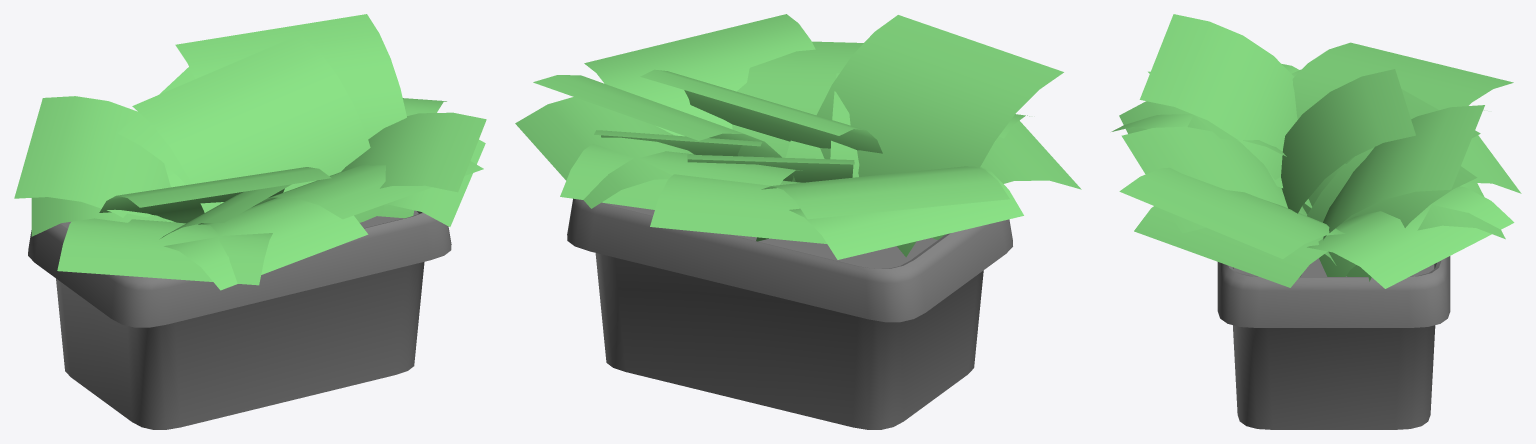
The model's file is SM_flowerpot_02.fbx.
The picture shows the model from 3 angles, left to right: view 1: azimuth 30°, elevation 25°; view 2: azimuth 150°, elevation 25°; view 3: azimuth 270°, elevation 25°; orthographic projection. The views are drawn at different scales.
Visible parts, largest first — view 1: Box54932394; view 2: Box54932394; view 3: Box54932394.
Part boxes in pixels (x1,y1,x2,y2): Box54932394: [14, 14, 486, 429]; Box54932394: [515, 14, 1081, 429]; Box54932394: [1111, 14, 1521, 429].
Size of the model in its own units: 36.37 by 20.66 by 27.87.
